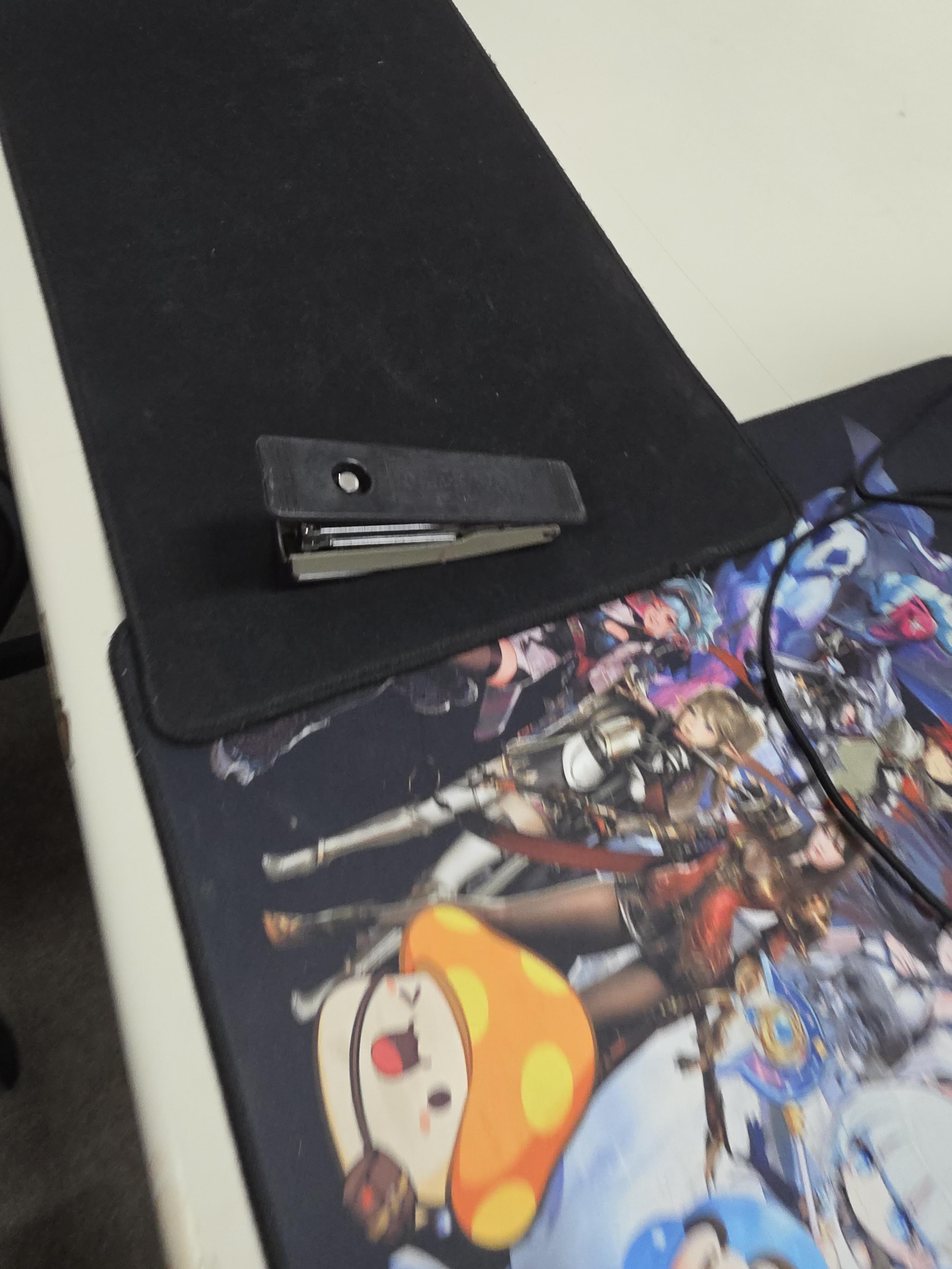stapler: (255, 434, 588, 582)
